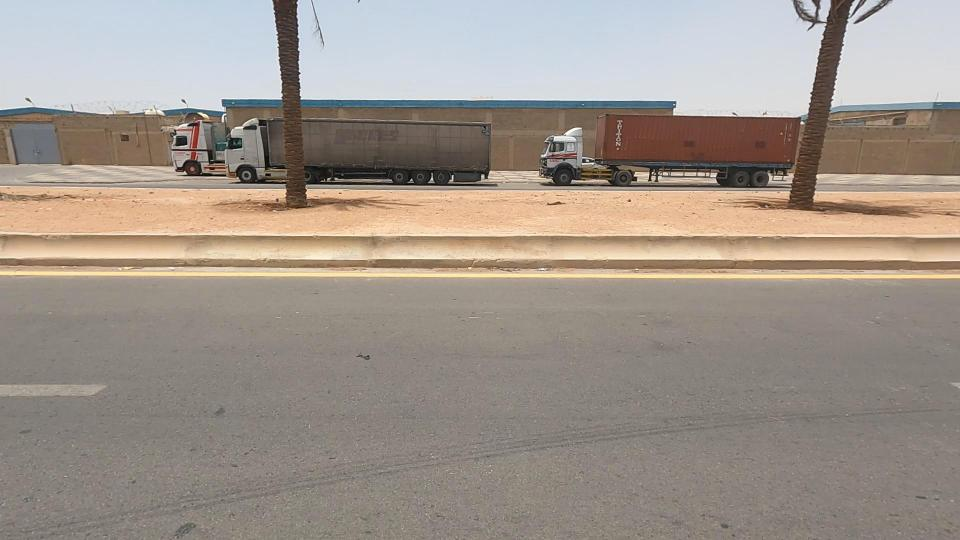CLUTTER_SIDEWALK: (0, 152, 582, 278), (310, 154, 851, 269)
